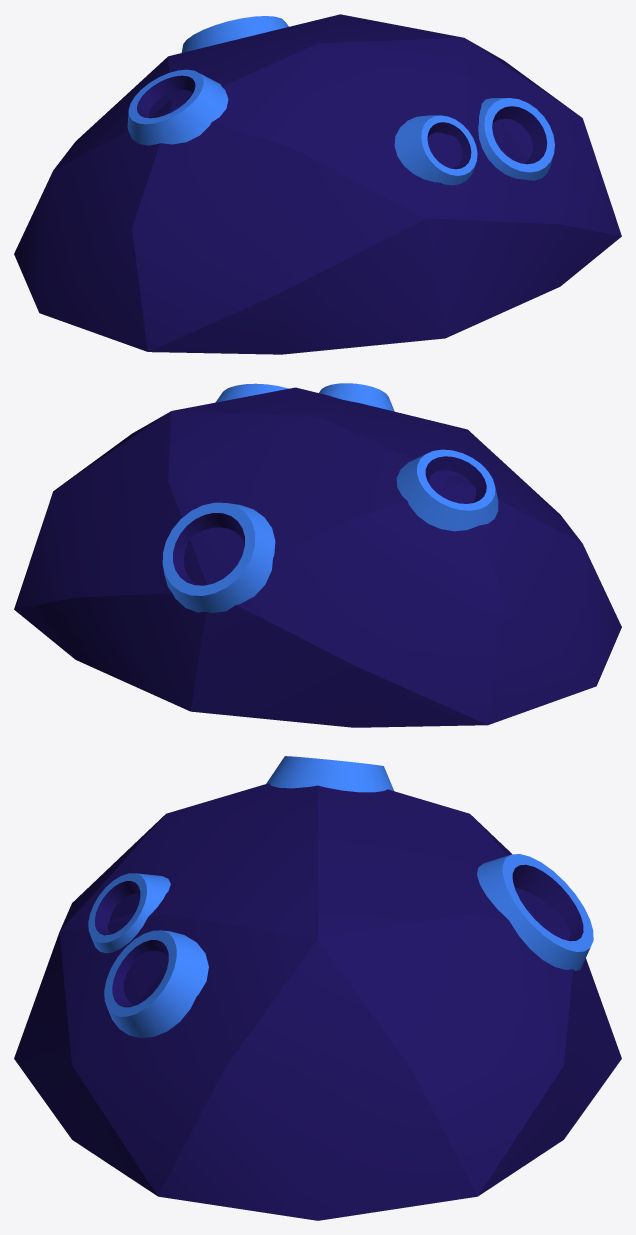
File: coral_blue_small.fbx
The picture shows the model from 3 angles, top to bottom: view 1: azimuth 30°, elevation 25°; view 2: azimuth 150°, elevation 25°; view 3: azimuth 270°, elevation 25°; orthographic projection. The views are drawn at different scales.
Visible parts, largest first — view 1: mergedBlocks; view 2: mergedBlocks; view 3: mergedBlocks.
Boxes of the visible parts, x1=… form: mergedBlocks: x1=14, y1=14, x2=621, y2=354; mergedBlocks: x1=14, y1=383, x2=621, y2=727; mergedBlocks: x1=14, y1=756, x2=621, y2=1220.
Size of the model in its own units: 8.15 by 2.82 by 6.46.
